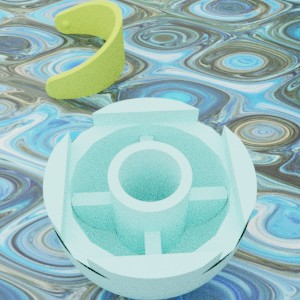lego: (43, 97, 256, 300), (45, 0, 124, 99)
